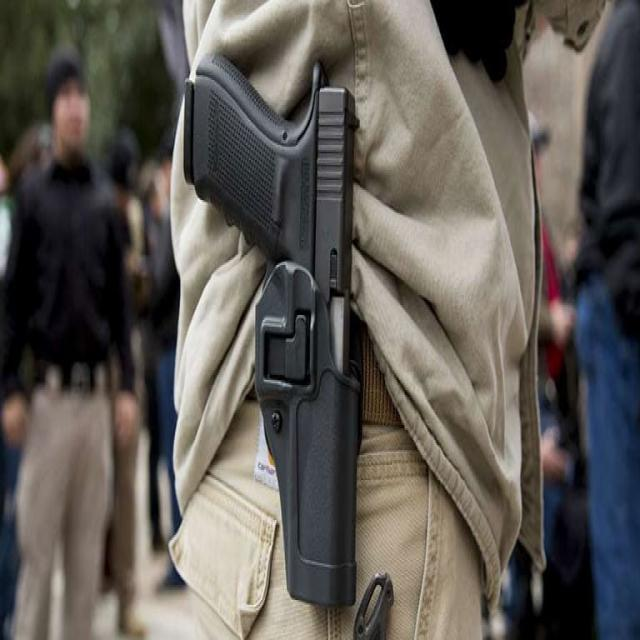pistol: (185, 40, 359, 608)
